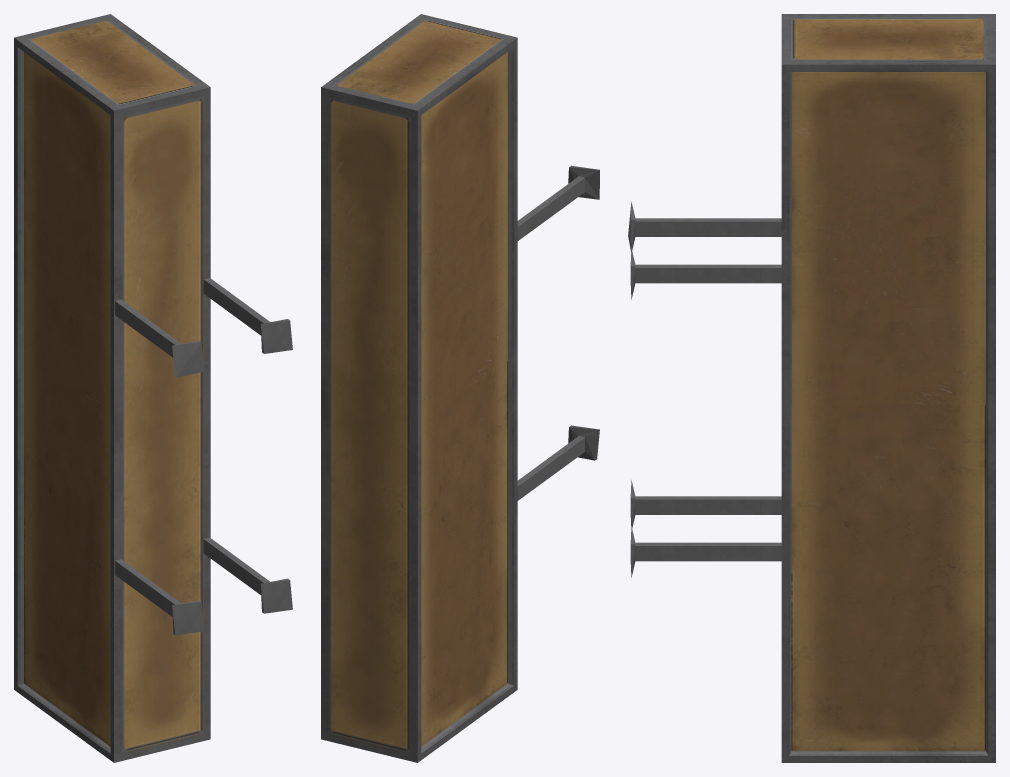
The model's file is M_c3_bjq_paizi_04.fbx.
3 views of the same model, side by side, from view 1: azimuth 30°, elevation 25°; view 2: azimuth 150°, elevation 25°; view 3: azimuth 270°, elevation 25° (orthographic). The views are drawn at different scales.
Parts seen in each view (by area): view 1: M_c3_bjq_paizi_04.mo; view 2: M_c3_bjq_paizi_04.mo; view 3: M_c3_bjq_paizi_04.mo.
Part boxes in pixels (box(x1,y1,x2,y2)): M_c3_bjq_paizi_04.mo: box(14, 14, 292, 762); M_c3_bjq_paizi_04.mo: box(321, 14, 599, 762); M_c3_bjq_paizi_04.mo: box(628, 14, 995, 762).
Bounding box in the file's own units: 48.02 × 247 × 118.
